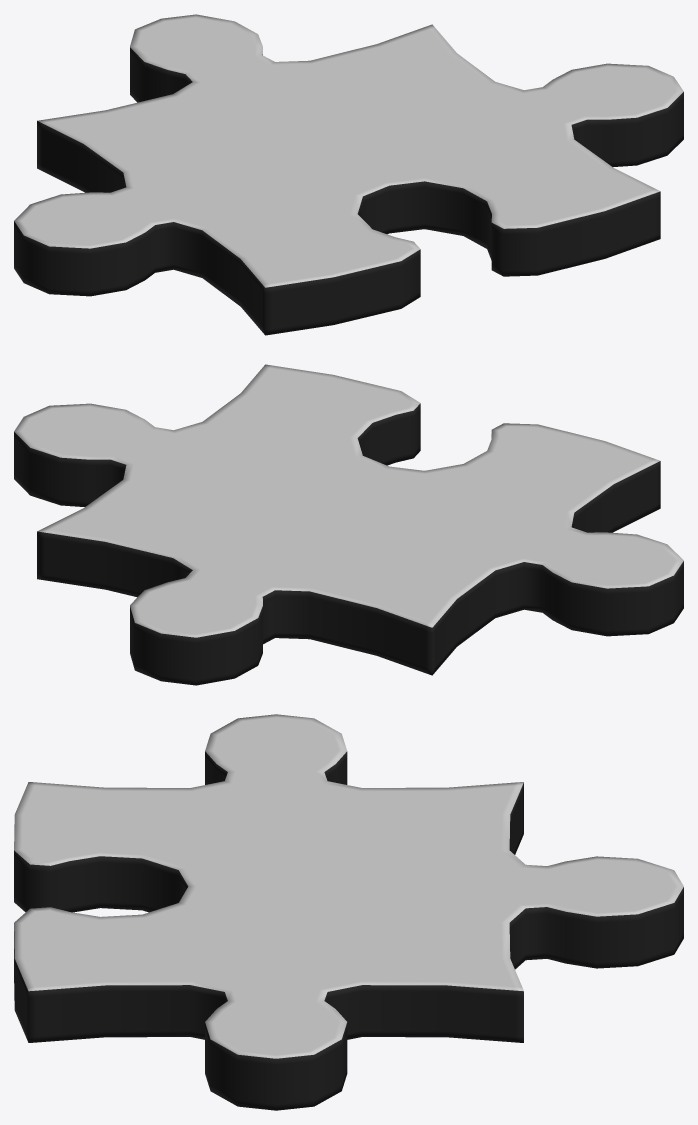
File: puzzle46.fbx
The picture shows the model from 3 angles, top to bottom: view 1: azimuth 30°, elevation 25°; view 2: azimuth 150°, elevation 25°; view 3: azimuth 270°, elevation 25°; orthographic projection. The views are drawn at different scales.
Parts seen in each view (by area): view 1: puzzle46; view 2: puzzle46; view 3: puzzle46.
Part boxes in pixels (x1,y1,x2,y2): puzzle46: (14,14,683,335); puzzle46: (14,364,683,685); puzzle46: (14,714,683,1110).
Bounding box in the file's own units: 4.9 × 0.344 × 4.03.
